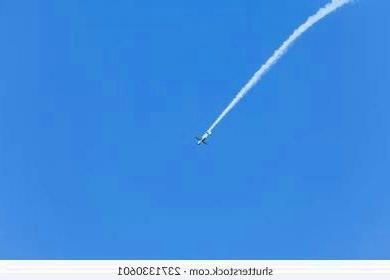Plane: (184, 28, 302, 148)
